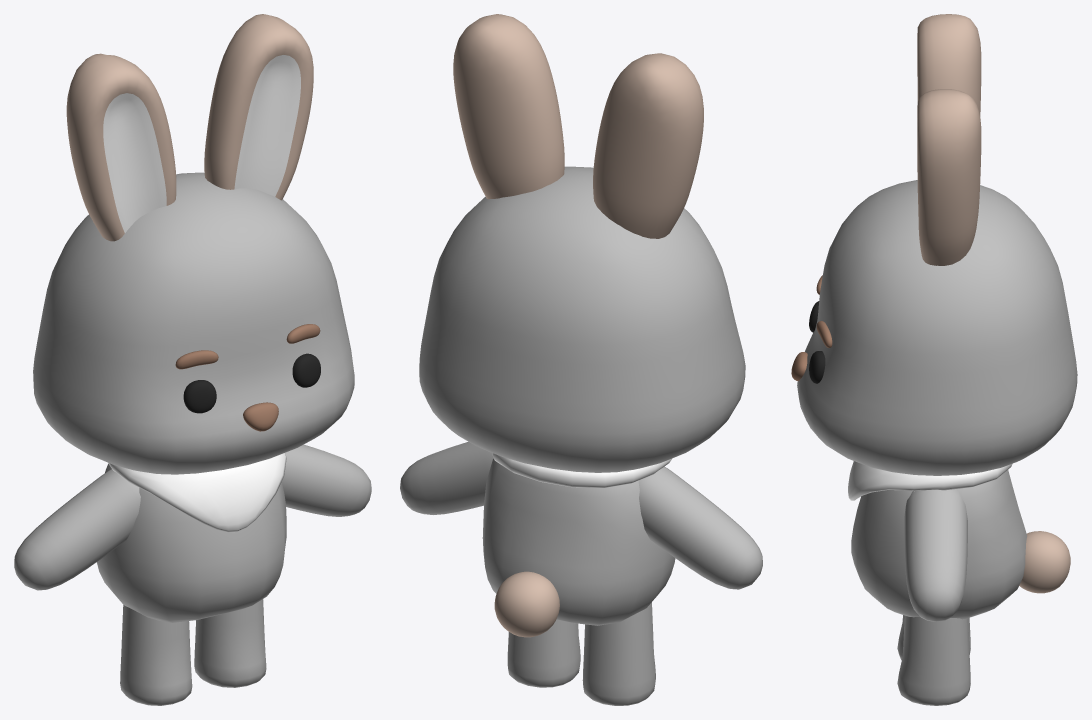
Rendered from bunny.bak.glb.
3 renders of one model, left to right at view 1: azimuth 30°, elevation 25°; view 2: azimuth 150°, elevation 25°; view 3: azimuth 270°, elevation 25°, orthographic. The views are drawn at different scales.
Visible parts, largest first — view 1: bunny1_head, bunny1_ears, bunny1_body, bunny1_arms, bunny1_legs, bunny1_scraf, bunny1_eyes, bunny1_eyebrow, bunny1_nose; view 2: bunny1_head, bunny1_ears, bunny1_body, bunny1_arms, bunny1_legs, bunny1_tail, bunny1_scraf; view 3: bunny1_head, bunny1_ears, bunny1_body, bunny1_arms, bunny1_legs, bunny1_scraf, bunny1_tail, bunny1_eyes.
Boxes of the visible parts, bbox=[...] form: bunny1_head: bbox=[33, 172, 354, 474]; bunny1_ears: bbox=[66, 14, 313, 241]; bunny1_body: bbox=[97, 464, 286, 622]; bunny1_arms: bbox=[14, 444, 371, 590]; bunny1_legs: bbox=[120, 599, 266, 705]; bunny1_scraf: bbox=[108, 453, 286, 532]; bunny1_eyes: bbox=[183, 353, 320, 413]; bunny1_eyebrow: bbox=[175, 324, 320, 369]; bunny1_nose: bbox=[243, 402, 278, 431]; bunny1_head: bbox=[419, 166, 745, 472]; bunny1_ears: bbox=[453, 14, 703, 238]; bunny1_body: bbox=[482, 458, 675, 625]; bunny1_arms: bbox=[400, 442, 762, 589]; bunny1_legs: bbox=[507, 602, 655, 705]; bunny1_tail: bbox=[494, 571, 559, 637]; bunny1_scraf: bbox=[492, 453, 671, 487]; bunny1_head: bbox=[797, 180, 1077, 475]; bunny1_ears: bbox=[917, 14, 981, 265]; bunny1_body: bbox=[851, 470, 1027, 619]; bunny1_arms: bbox=[904, 489, 967, 621]; bunny1_legs: bbox=[897, 615, 970, 705]; bunny1_scraf: bbox=[848, 461, 1012, 500]; bunny1_tail: bbox=[1019, 531, 1070, 593]; bunny1_eyes: bbox=[809, 301, 825, 383].
Bounding box in the file's own units: 4.55 × 7.96 × 3.31.
